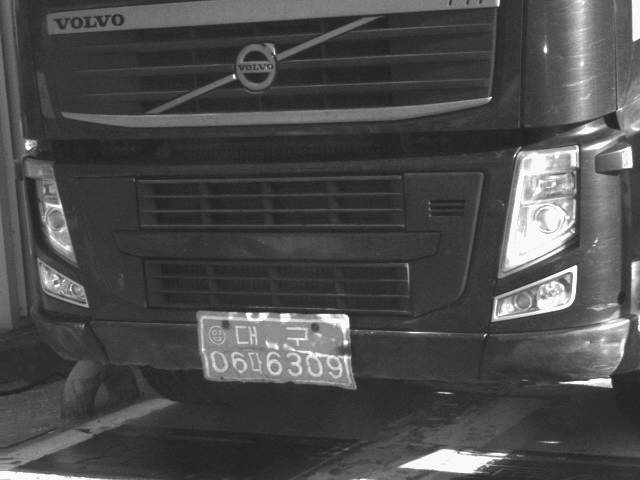car: (10, 1, 639, 427)
plate: (196, 309, 356, 387)
